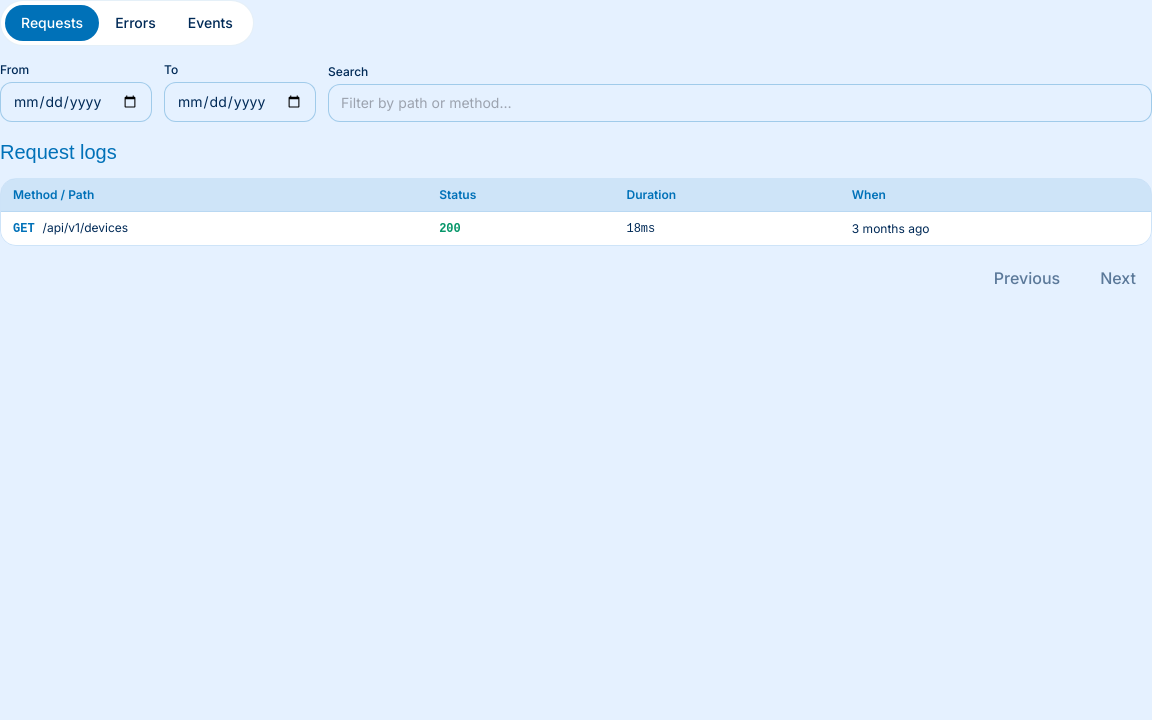
Test: MonitoringLogsPage › opens a read-only log detail modal on row click
This screenshot has width=1152, height=720.
Click the text "/api/v1/devices": (85, 228) [43, 220, 128, 235]
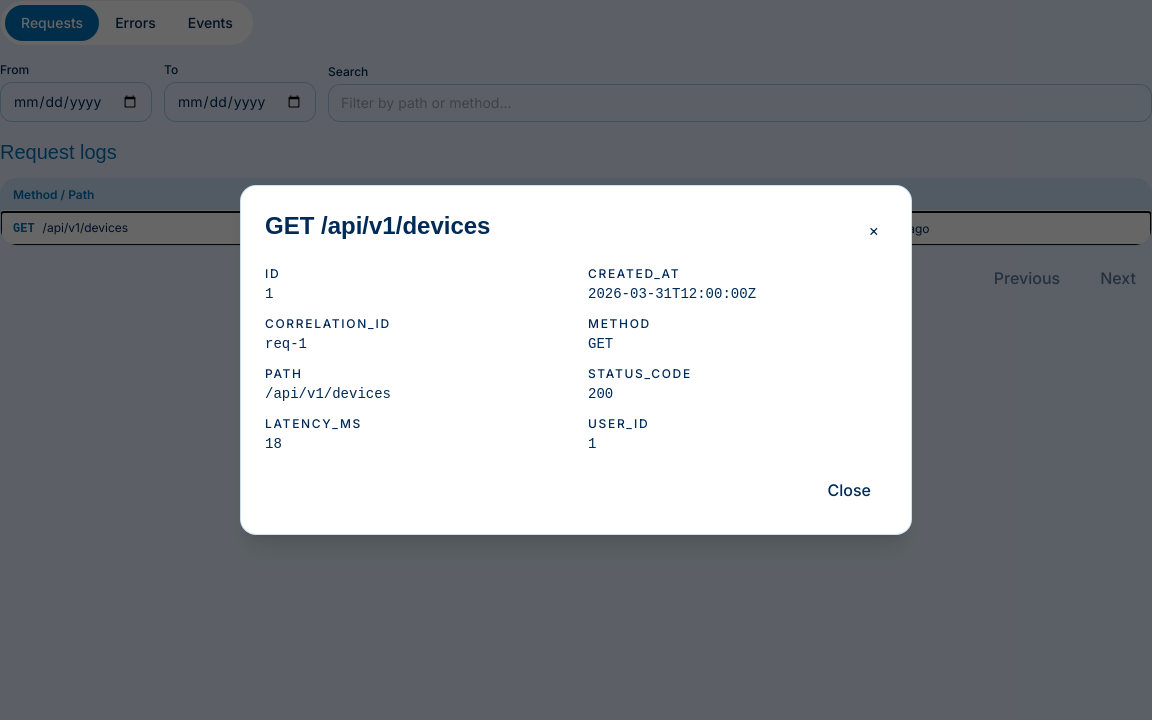
Now the text "status_code" is shown, box [588, 366, 692, 381]
Now the text "correlation_id" is shown, box [265, 316, 391, 331]
